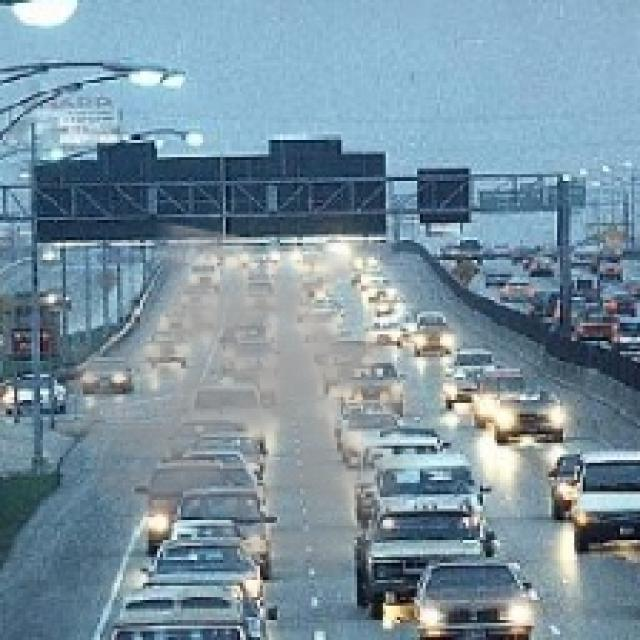Smoke: (42, 220, 468, 583)
